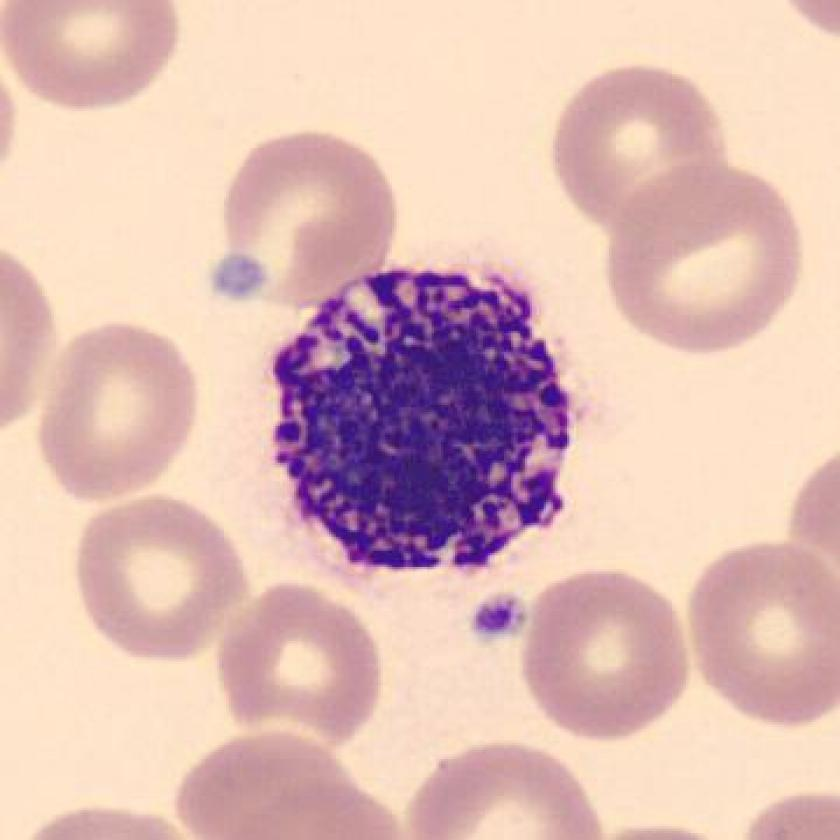basophil: (267, 265, 587, 584)
